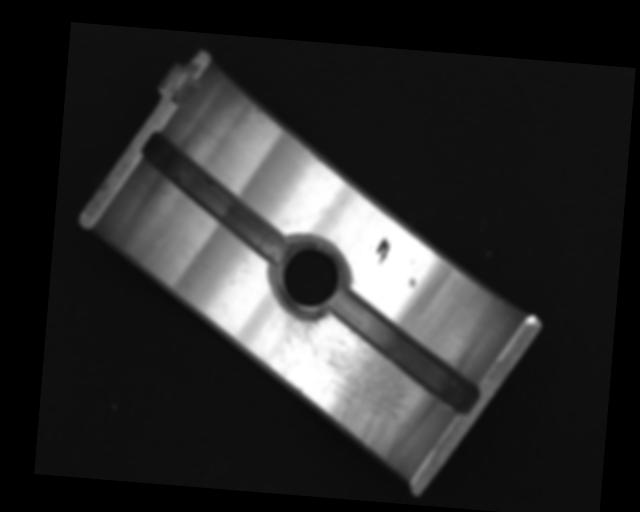blot: (374, 237, 390, 265)
bruise: (408, 277, 417, 289)
gap: (133, 131, 299, 263), (327, 293, 488, 415)
hole: (265, 235, 351, 318)
scratch: (269, 308, 423, 462)
